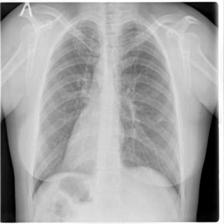tuberculosis: (24, 14, 185, 210)
